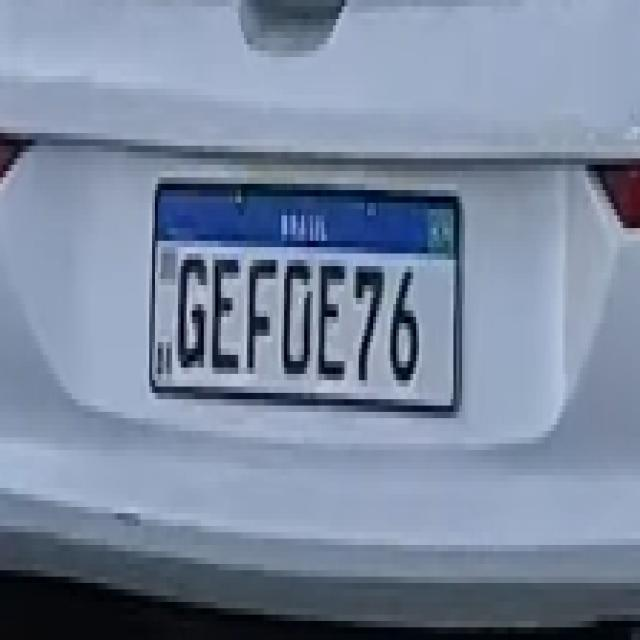Placa_mercosul_carro: (149, 177, 461, 415)
